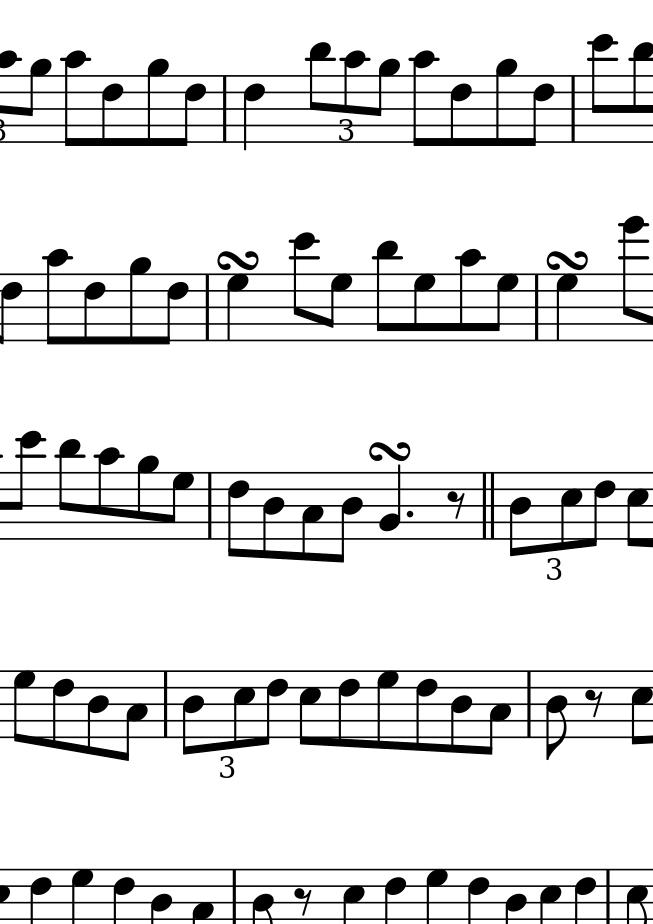3: (216, 754, 236, 781), (545, 555, 563, 583), (337, 116, 355, 144)
4_2: (378, 462, 404, 542)
4_6: (242, 75, 270, 150)
4_7: (225, 273, 251, 345), (554, 273, 579, 342)
8_10: (62, 48, 93, 147), (93, 445, 123, 542), (42, 248, 71, 344), (412, 50, 440, 149), (456, 248, 484, 342), (343, 49, 368, 145)
8_11: (373, 240, 401, 341), (308, 40, 334, 144), (56, 438, 82, 540), (629, 41, 653, 145)
8_12: (8, 430, 44, 540), (588, 32, 618, 145), (289, 232, 319, 341)
8_14: (619, 215, 651, 341)
8_3: (117, 669, 149, 761), (481, 670, 515, 756), (299, 471, 324, 562)
8_4: (334, 472, 367, 563), (544, 669, 570, 760), (508, 471, 533, 559), (261, 471, 285, 561), (85, 669, 109, 756), (450, 669, 474, 754), (182, 670, 206, 754)
8_5: (628, 668, 653, 748), (231, 670, 256, 749), (559, 470, 582, 553), (626, 471, 650, 550), (298, 670, 322, 745)
8_6: (158, 272, 190, 344), (525, 73, 556, 147), (225, 471, 251, 557), (589, 470, 617, 548), (262, 669, 289, 746), (50, 668, 75, 750), (180, 74, 207, 148), (414, 669, 437, 752), (336, 669, 360, 748), (449, 74, 473, 148), (83, 272, 107, 346), (100, 74, 124, 146)
8_7: (488, 272, 518, 341), (375, 670, 400, 751), (167, 472, 196, 541), (324, 272, 353, 341), (411, 272, 437, 342), (12, 669, 36, 744)
8_9: (22, 59, 53, 142), (493, 58, 519, 148), (127, 256, 153, 345), (375, 58, 401, 144), (136, 455, 161, 541), (147, 58, 170, 146)
Double_barline: (477, 471, 501, 540)
Rests8: (584, 687, 606, 718), (446, 490, 467, 518), (293, 887, 313, 915)
Single_barline: (519, 669, 540, 738), (200, 470, 220, 539), (565, 73, 583, 146), (155, 670, 174, 738), (215, 75, 234, 142), (527, 275, 545, 341), (200, 274, 217, 341)
Turn: (543, 246, 591, 271), (215, 248, 262, 272), (366, 439, 411, 463)
dot: (404, 508, 416, 520)
